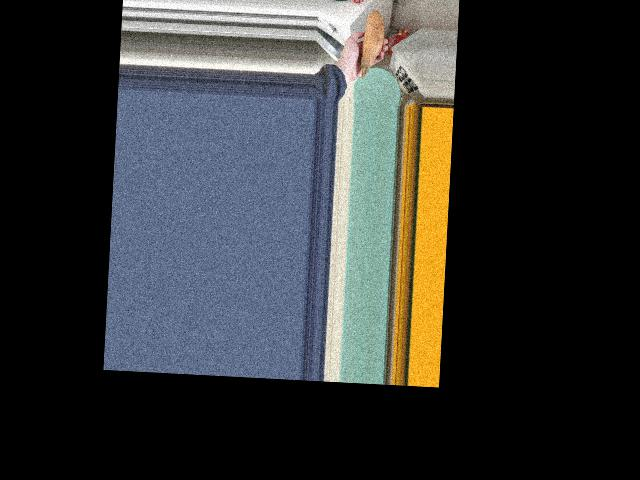sweet_potato: (364, 12, 387, 87)
